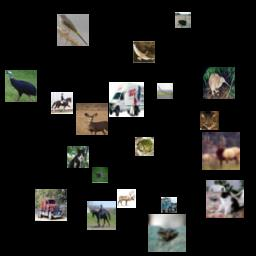airplane: (157, 83, 173, 99)
bird: (57, 14, 89, 46), (203, 67, 235, 99), (5, 70, 37, 102), (133, 41, 155, 63), (175, 12, 191, 28)
cat: (206, 180, 244, 218), (67, 146, 89, 168), (200, 111, 219, 130), (92, 167, 108, 183)
deer: (202, 132, 240, 170), (76, 103, 108, 135), (117, 189, 136, 208)
frog: (148, 214, 186, 252), (135, 137, 154, 156)
truck: (109, 82, 144, 117), (35, 189, 67, 221), (161, 197, 177, 213)
